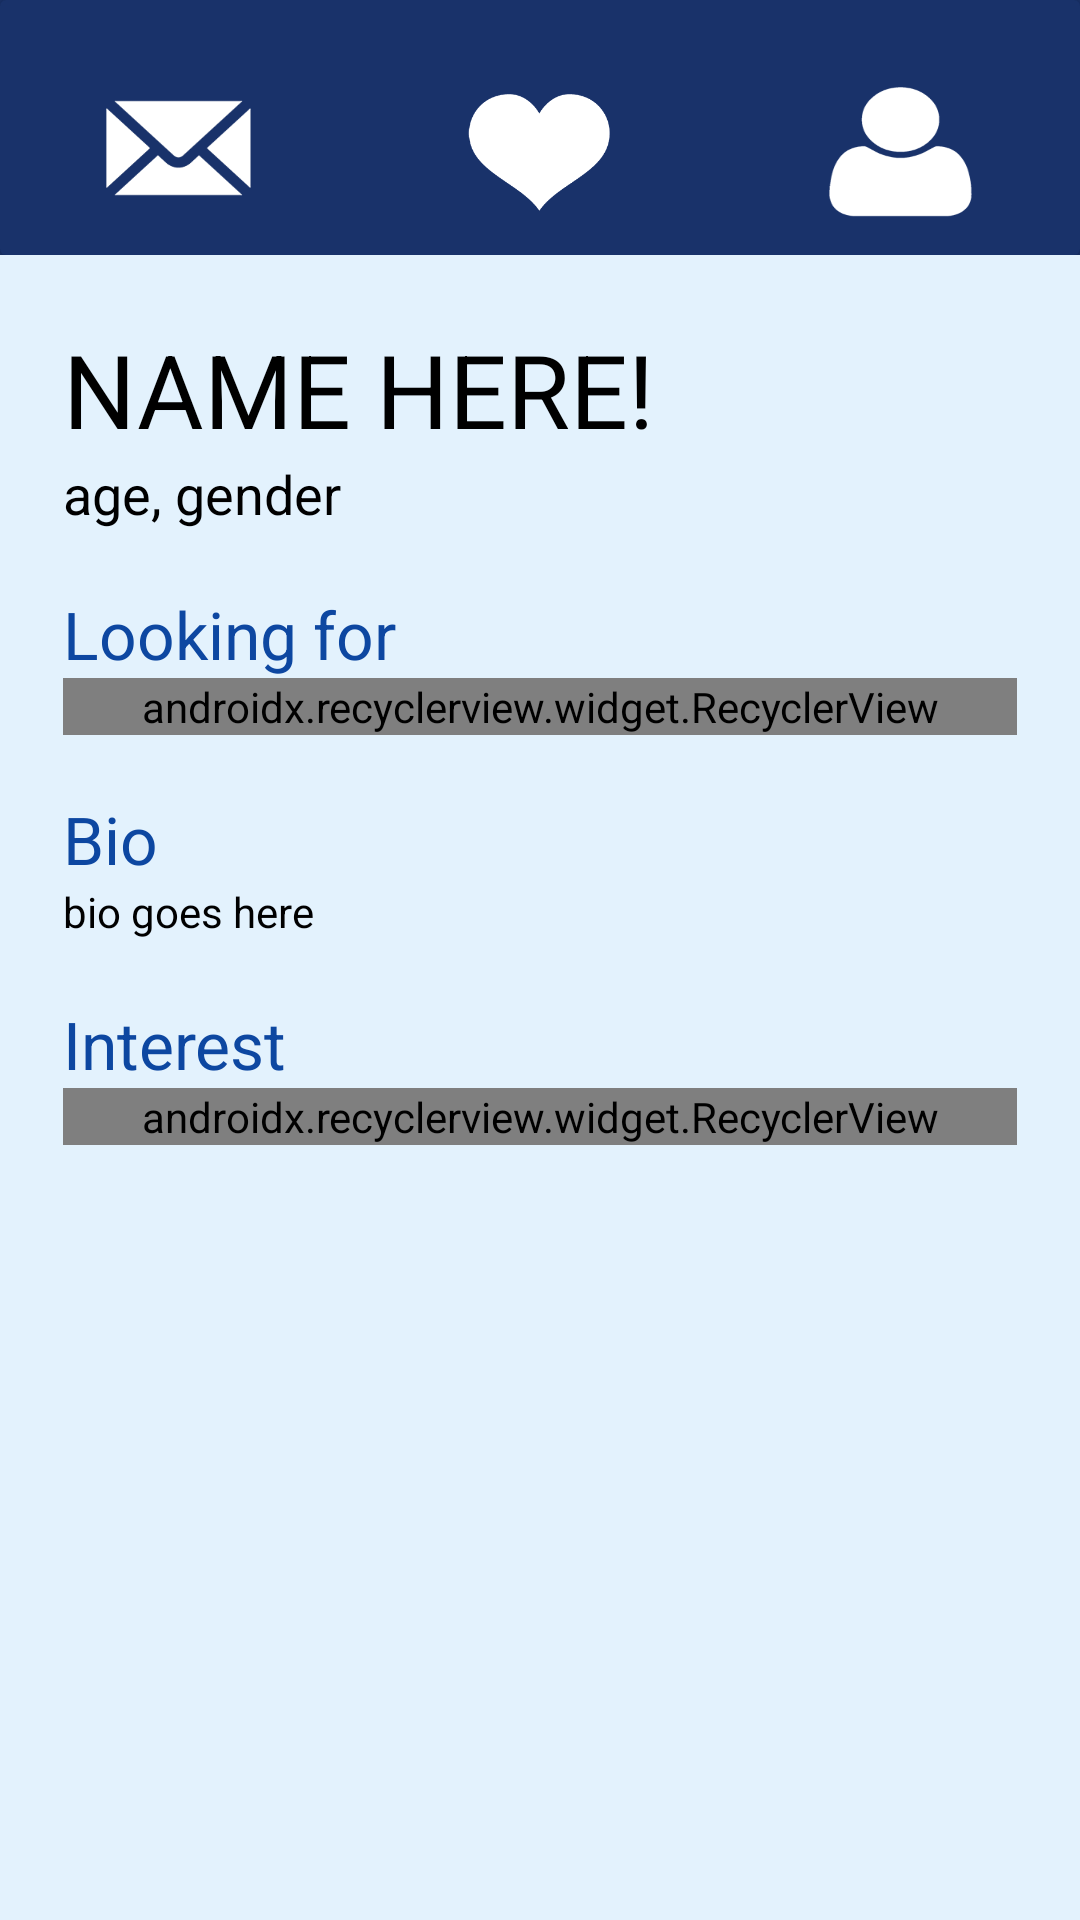

Icon bounding boxes for this 1080px×1920px phone screenshot, format bbox(x1, y1, x2, y2):
heart: bbox(468, 94, 610, 211)
mail: bbox(106, 100, 251, 196)
usericon: bbox(829, 87, 972, 217)
